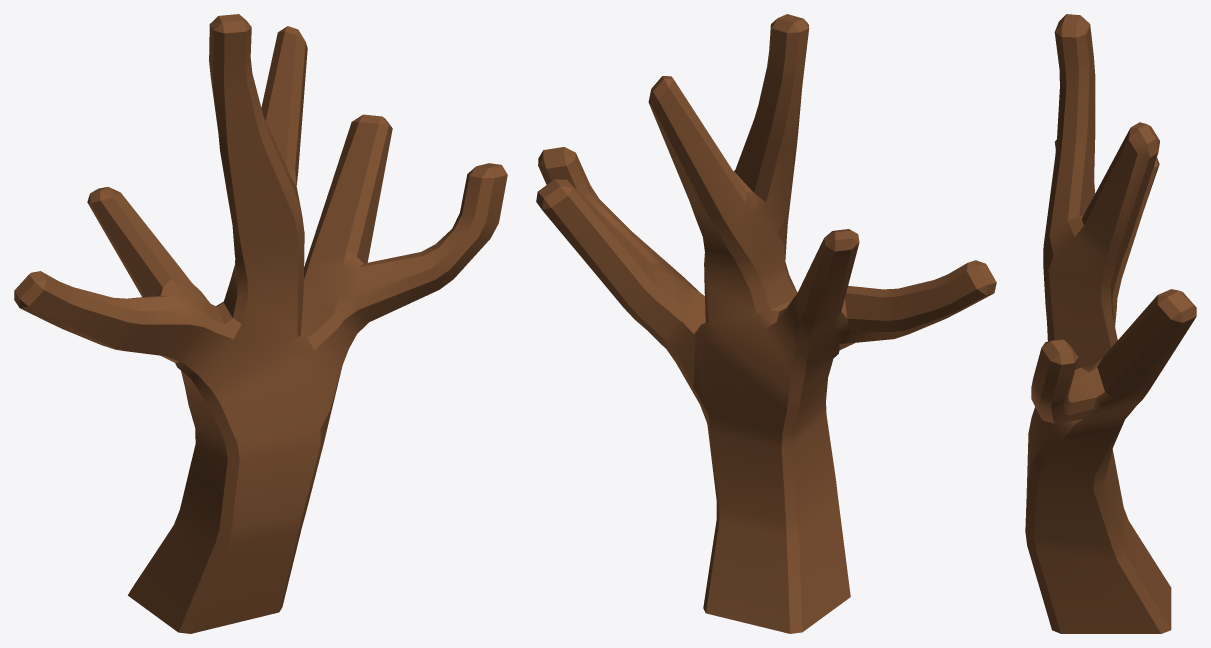
File: DeadTree_1.fbx
3 renders of one model, left to right at view 1: azimuth 30°, elevation 25°; view 2: azimuth 150°, elevation 25°; view 3: azimuth 270°, elevation 25°, orthographic. The views are drawn at different scales.
Parts seen in each view (by area): view 1: DeadTree_1; view 2: DeadTree_1; view 3: DeadTree_1.
Part boxes in pixels (box(x1,y1,x2,y2)): DeadTree_1: box(14, 14, 507, 633); DeadTree_1: box(536, 14, 996, 633); DeadTree_1: box(1025, 14, 1196, 633).
Size of the model in its own units: 4.22 by 4.99 by 1.31.
1 material, 1 textured.
